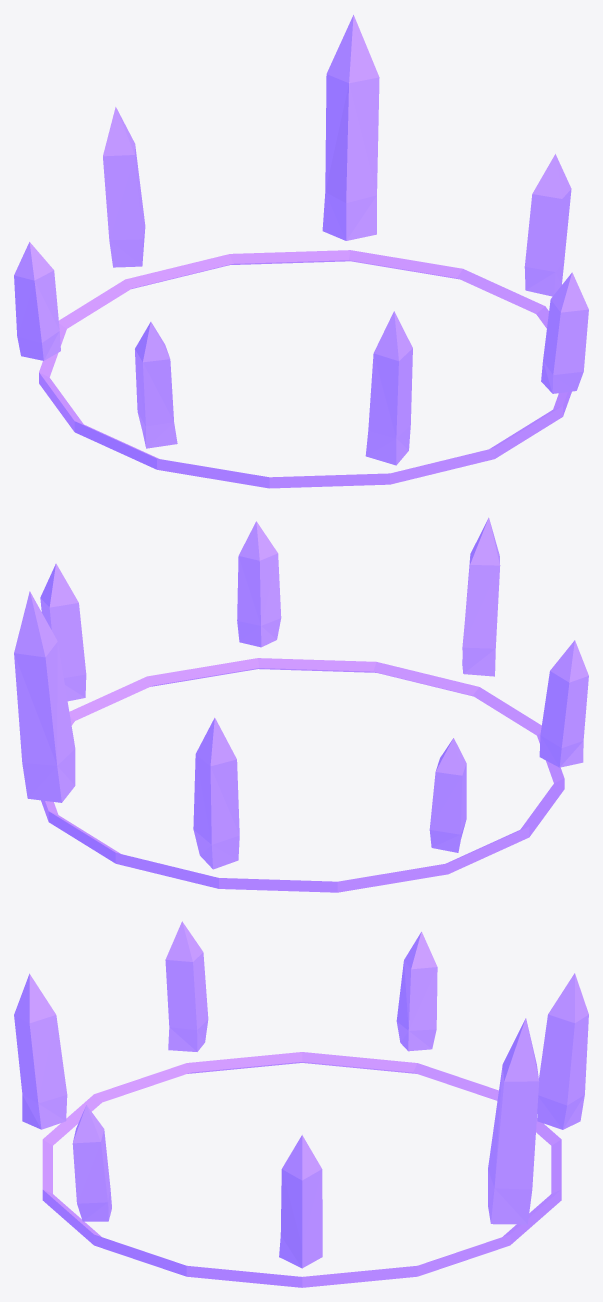
File: dc_shade_halo.glb
3 views of the same model, one above another, from view 1: azimuth 30°, elevation 25°; view 2: azimuth 150°, elevation 25°; view 3: azimuth 270°, elevation 25° (orthographic). The views are drawn at different scales.
Parts seen in each view (by area): view 1: part.dc_shade_halo; view 2: part.dc_shade_halo; view 3: part.dc_shade_halo.
Part boxes in pixels (x1=…): part.dc_shade_halo: x1=14, y1=15, x2=588, y2=488; part.dc_shade_halo: x1=14, y1=517, x2=588, y2=892; part.dc_shade_halo: x1=14, y1=921, x2=588, y2=1287.
Bounding box in the file's own units: 0.6418 × 0.294 × 0.6567.
